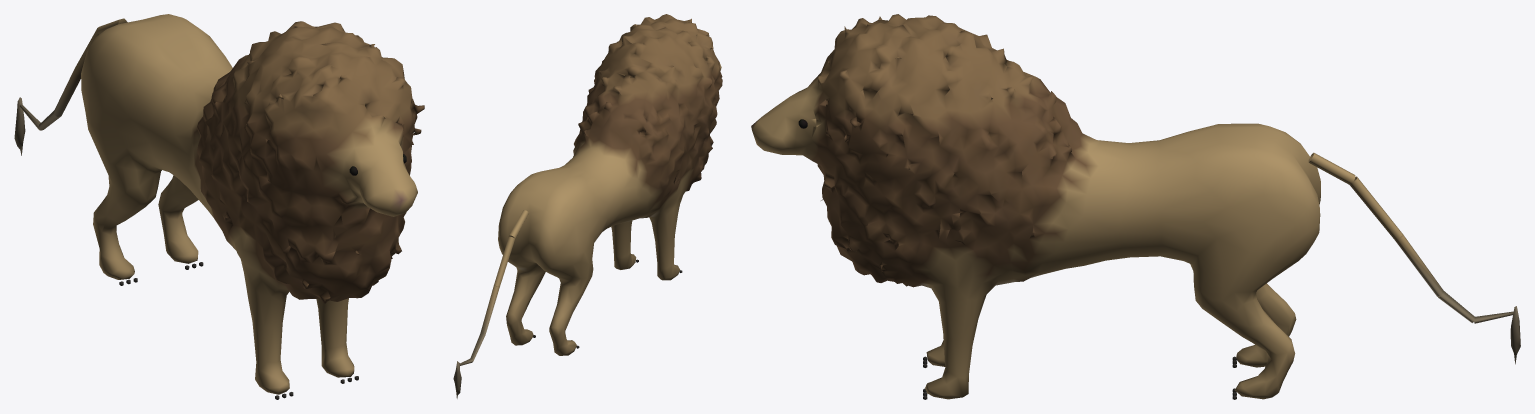
File: loewe.glb
3 renders of one model, left to right at view 1: azimuth 30°, elevation 25°; view 2: azimuth 150°, elevation 25°; view 3: azimuth 270°, elevation 25°, orthographic. The views are drawn at different scales.
Visible parts, largest first — view 1: lack; view 2: lack; view 3: lack.
Part boxes in pixels (bbox=[...]): lack: bbox=[14, 14, 424, 399]; lack: bbox=[453, 14, 722, 398]; lack: bbox=[751, 14, 1520, 399].
Bounding box in the file's own units: 0.7117 × 1.5 × 2.95.
